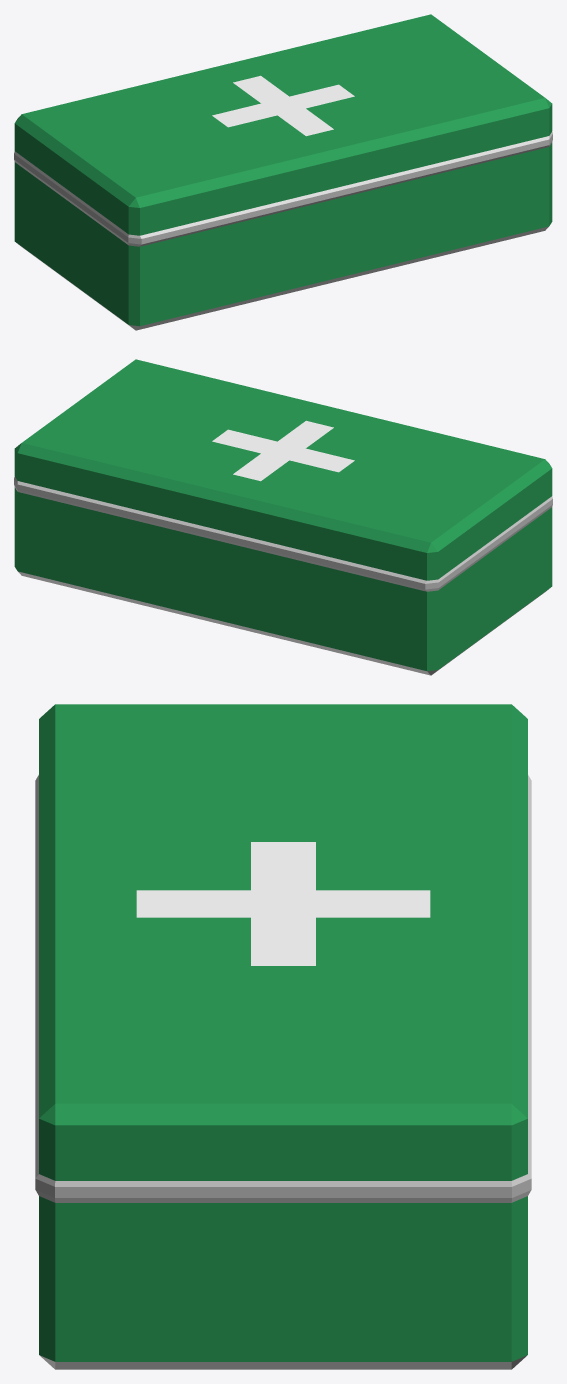
File: MedBox.fbx
The picture shows the model from 3 angles, top to bottom: view 1: azimuth 30°, elevation 25°; view 2: azimuth 150°, elevation 25°; view 3: azimuth 270°, elevation 25°; orthographic projection. The views are drawn at different scales.
Visible parts, largest first — view 1: MedicBox; view 2: MedicBox; view 3: MedicBox.
Boxes of the visible parts, x1=… form: MedicBox: x1=14, y1=14, x2=552, y2=330; MedicBox: x1=14, y1=359, x2=552, y2=675; MedicBox: x1=35, y1=704, x2=531, y2=1369.
Bounding box in the file's own units: 30.08 × 9 × 15.22.
Materials: 1 (1 with a texture image).
